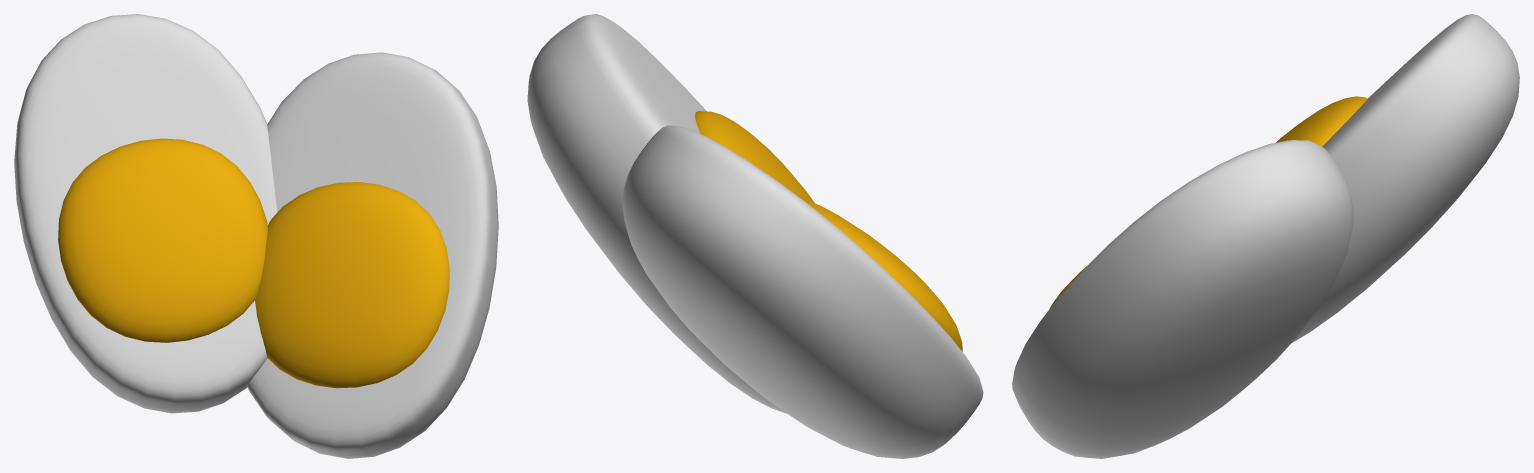
Rendered from EGGS.glb.
The picture shows the model from 3 angles, left to right: view 1: azimuth 30°, elevation 25°; view 2: azimuth 150°, elevation 25°; view 3: azimuth 270°, elevation 25°; orthographic projection. The views are drawn at different scales.
Visible parts, largest first — view 1: Cube.004, Cube.006, Cube.003, Cube.005; view 2: Cube.004, Cube.006, Cube.003, Cube.005; view 3: Cube.006, Cube.004, Cube.003.
Part boxes in pixels (<box>): Cube.004: <box>14,14,277,413</box>; Cube.006: <box>247,52,498,458</box>; Cube.003: <box>58,138,267,342</box>; Cube.005: <box>255,182,449,388</box>; Cube.004: <box>622,125,983,458</box>; Cube.006: <box>527,14,786,413</box>; Cube.003: <box>798,196,962,351</box>; Cube.005: <box>694,111,814,202</box>; Cube.006: <box>1012,140,1353,458</box>; Cube.004: <box>1292,14,1519,342</box>; Cube.003: <box>1276,96,1367,146</box>.
Bounding box in the file's own units: 0.7219 × 0.612 × 0.7334.
